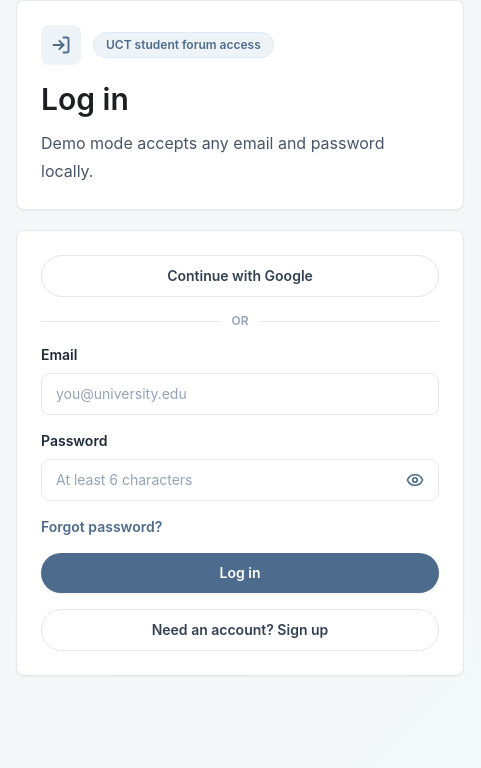
AuthPage › shows a clear message when Google login is not configured yet
The width and height of the screenshot is (481, 768).
Click the button "Continue with Google" at (240, 276), box [41,255,439,297]
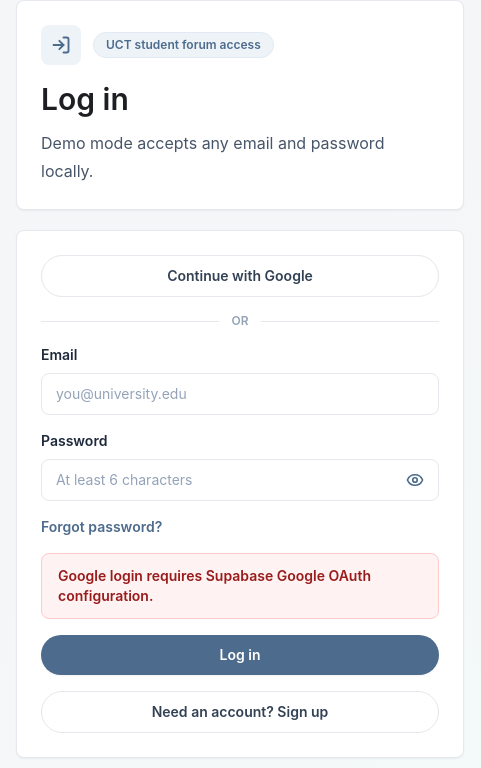
Now the text "Google login requires Supabase Google OAuth configuration." is shown, box [41,553,439,619]
